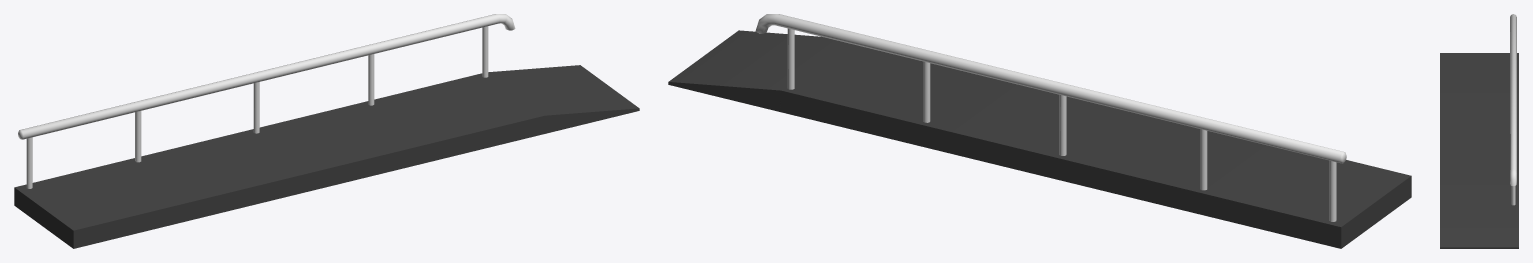
Rendered from Ramp_1.fbx.
3 views of the same model, side by side, from view 1: azimuth 30°, elevation 25°; view 2: azimuth 150°, elevation 25°; view 3: azimuth 270°, elevation 25° (orthographic). The views are drawn at different scales.
Parts seen in each view (by area): view 1: Ramp_lp, RampRailing_lp; view 2: Ramp_lp, RampRailing_lp; view 3: Ramp_lp, RampRailing_lp.
Part boxes in pixels (bbox=[...]): Ramp_lp: bbox=[14, 65, 639, 248]; RampRailing_lp: bbox=[18, 14, 515, 188]; Ramp_lp: bbox=[668, 30, 1411, 248]; RampRailing_lp: bbox=[755, 14, 1346, 221]; Ramp_lp: bbox=[1440, 53, 1518, 248]; RampRailing_lp: bbox=[1510, 14, 1516, 205].
Size of the model in its own units: 821 by 108 by 149.
Materials: 1 (1 with a texture image).
